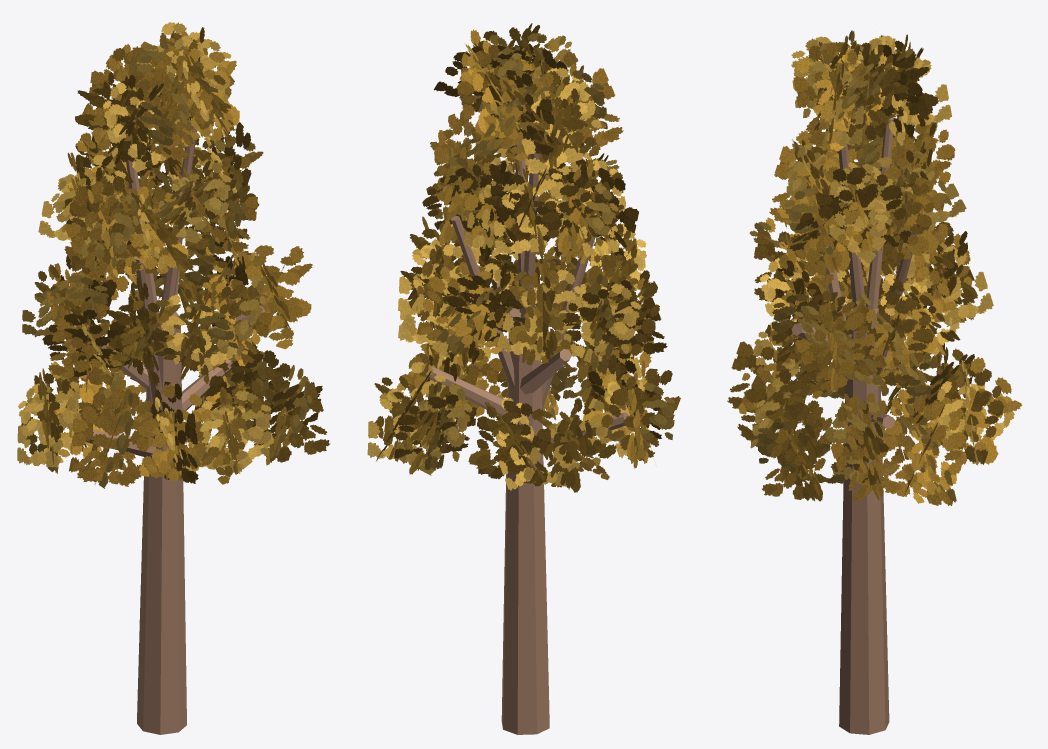
The model's file is RedWood_Yellow.glb.
3 views of the same model, side by side, from view 1: azimuth 30°, elevation 25°; view 2: azimuth 150°, elevation 25°; view 3: azimuth 270°, elevation 25° (orthographic).
Visible parts, largest first — view 1: Trunk, FoliageCard_06_00, FoliageCard_09_03, FoliageCard_24_03, FoliageCard_06_03, FoliageCard_15_00, FoliageCard_19_03, FoliageCard_24_00, FoliageCard_07_03, FoliageCard_33_03, FoliageCard_05_03, FoliageCard_26_03 (+71 smaller); view 2: Trunk, FoliageCard_05_01, FoliageCard_03_00, FoliageCard_22_01, FoliageCard_31_01, FoliageCard_30_01, FoliageCard_14_00, FoliageCard_13_01, FoliageCard_02_01, FoliageCard_02_00, FoliageCard_12_01, FoliageCard_32_01 (+68 smaller); view 3: Trunk, FoliageCard_01_02, FoliageCard_19_02, FoliageCard_28_02, FoliageCard_10_02, FoliageCard_34_02, FoliageCard_09_03, FoliageCard_02_02, FoliageCard_00_03, FoliageCard_02_01, FoliageCard_07_02, FoliageCard_28_01 (+60 smaller).
Boxes of the visible parts, box(x1,y1,x2,y2) form: Trunk: box(137, 311, 186, 734); FoliageCard_06_00: box(72, 391, 153, 481); FoliageCard_09_03: box(247, 363, 330, 462); FoliageCard_24_03: box(69, 176, 144, 274); FoliageCard_06_03: box(69, 389, 152, 486); FoliageCard_15_00: box(48, 301, 119, 385); FoliageCard_19_03: box(237, 245, 303, 349); FoliageCard_24_00: box(65, 181, 146, 278); FoliageCard_07_03: box(131, 383, 224, 480); FoliageCard_33_03: box(122, 55, 212, 161); FoliageCard_05_03: box(17, 371, 80, 467); FoliageCard_26_03: box(158, 159, 231, 243); Trunk: box(501, 308, 549, 734); FoliageCard_05_01: box(592, 368, 680, 461); FoliageCard_03_00: box(477, 400, 551, 483); FoliageCard_22_01: box(493, 166, 566, 254); FoliageCard_31_01: box(521, 67, 601, 172); FoliageCard_30_01: box(474, 71, 554, 161); FoliageCard_14_00: box(556, 283, 641, 362); FoliageCard_13_01: box(497, 269, 583, 360); FoliageCard_02_01: box(394, 394, 476, 458); FoliageCard_02_00: box(394, 383, 472, 475); FoliageCard_12_01: box(447, 271, 514, 354); FoliageCard_32_01: box(531, 52, 623, 161); Trunk: box(839, 308, 889, 734); FoliageCard_01_02: box(880, 397, 966, 505); FoliageCard_19_02: box(794, 303, 886, 392); FoliageCard_28_02: box(815, 167, 910, 249); FoliageCard_10_02: box(842, 291, 934, 388); FoliageCard_34_02: box(793, 42, 878, 147); FoliageCard_09_03: box(762, 405, 832, 499); FoliageCard_02_02: box(924, 357, 1022, 464); FoliageCard_00_03: box(830, 392, 904, 501); FoliageCard_02_01: box(940, 364, 1004, 464); FoliageCard_07_02: box(727, 324, 820, 422); FoliageCard_28_01: box(828, 162, 890, 263).
Bounding box in the file's own units: 4.43 × 10.17 × 4.12.
5 materials, 3 textured.
